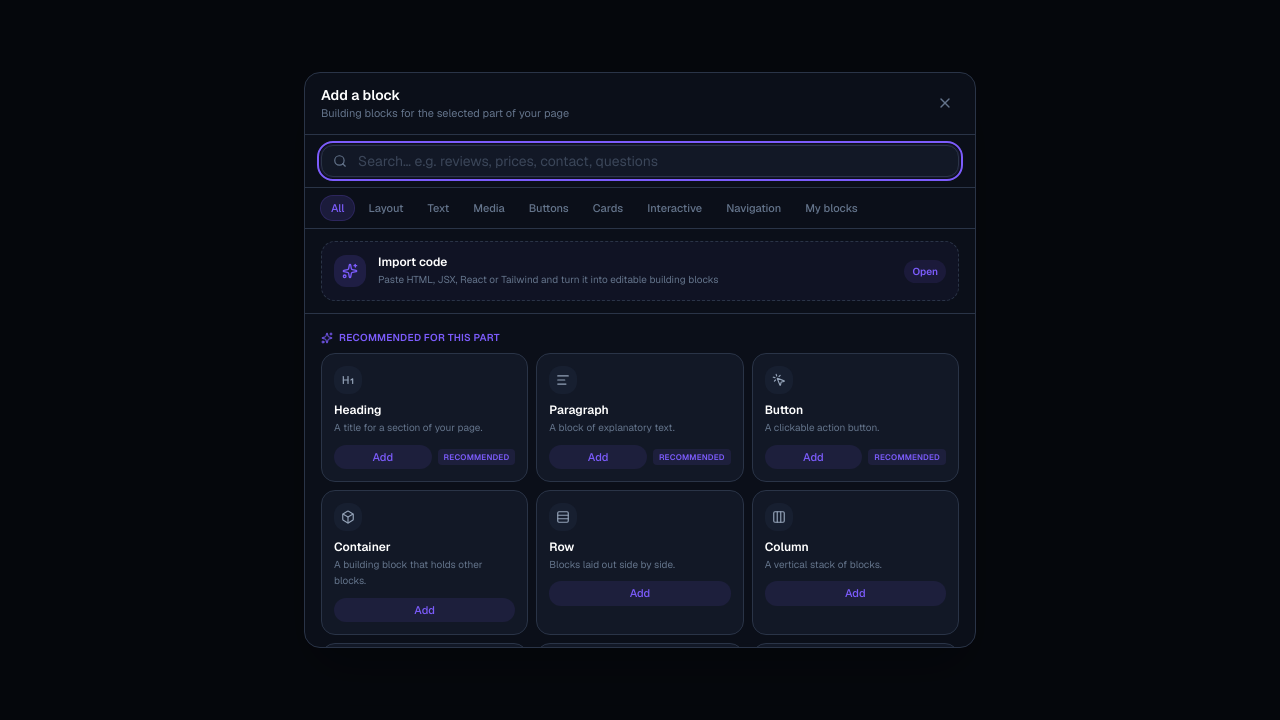
Scenario: BlockBrowserDialog › filters by category
Click the tab with test id "block-cat-layout": (386, 208) left=358, top=196, right=414, bottom=220
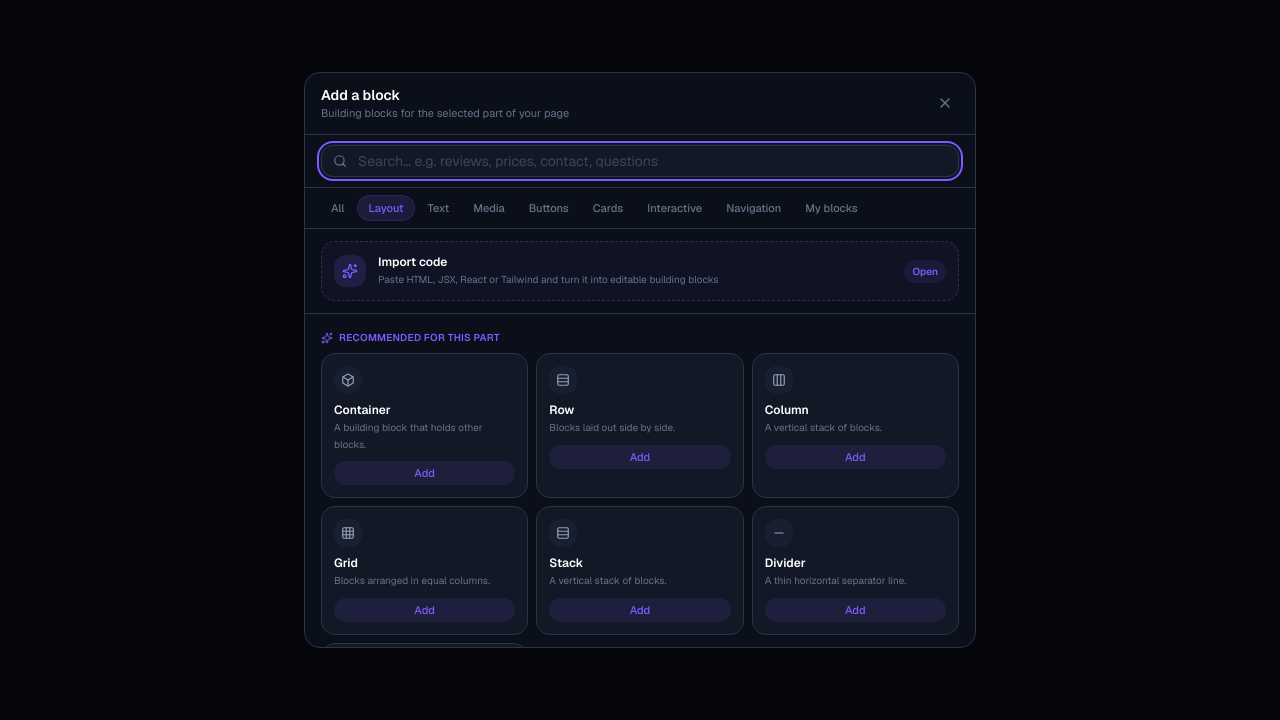
Check: the element with test id "block-card-container" is shown, box left=321, top=353, right=528, bottom=498
Check: the element with test id "block-card-heading" is gone
